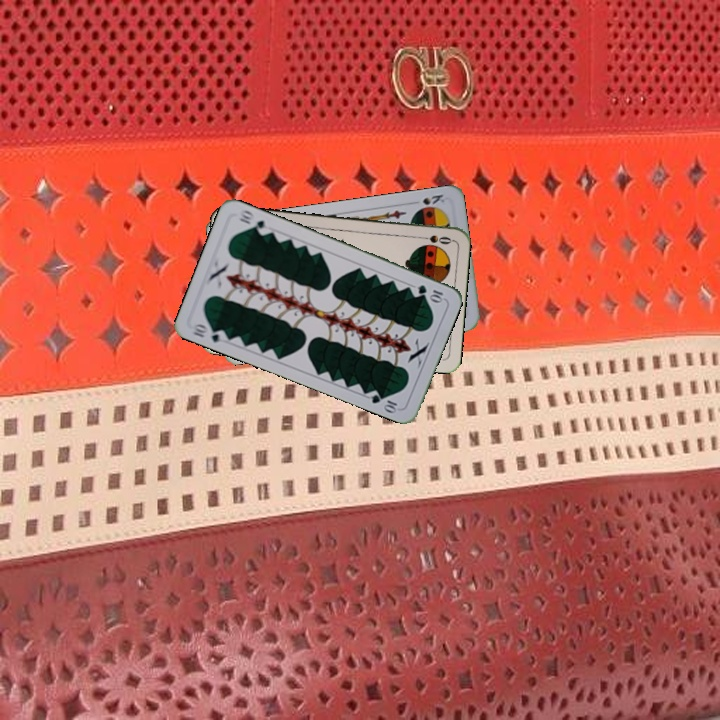G10: (188, 319, 229, 345), (414, 281, 445, 304)
SK: (418, 190, 447, 207)
SO: (414, 231, 454, 247)
